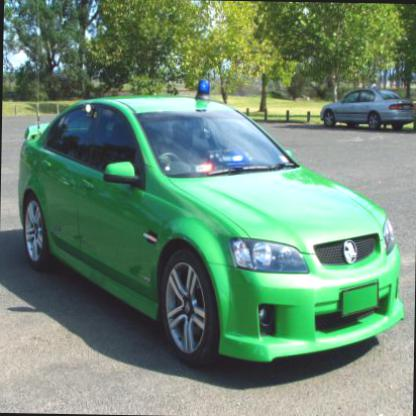car: (15, 76, 408, 372), (318, 84, 415, 131)
